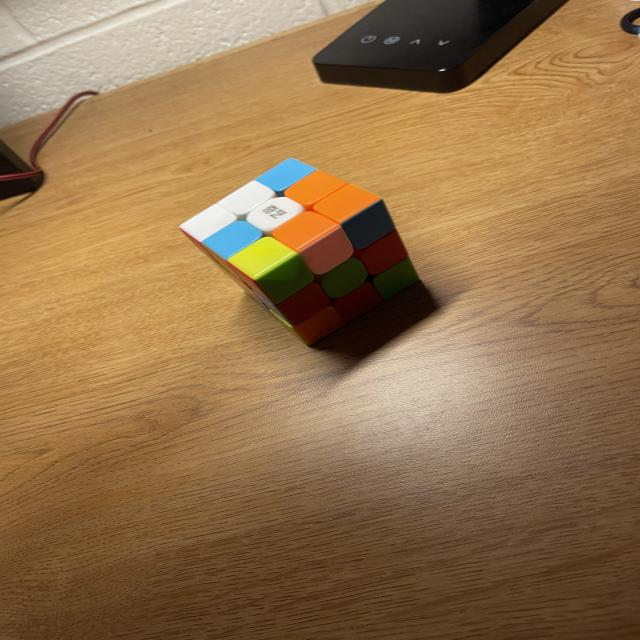Rubiks Cube: (180, 157, 420, 347)
